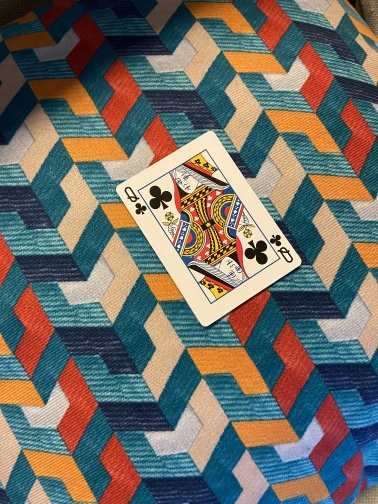queen: (114, 129, 304, 328)
